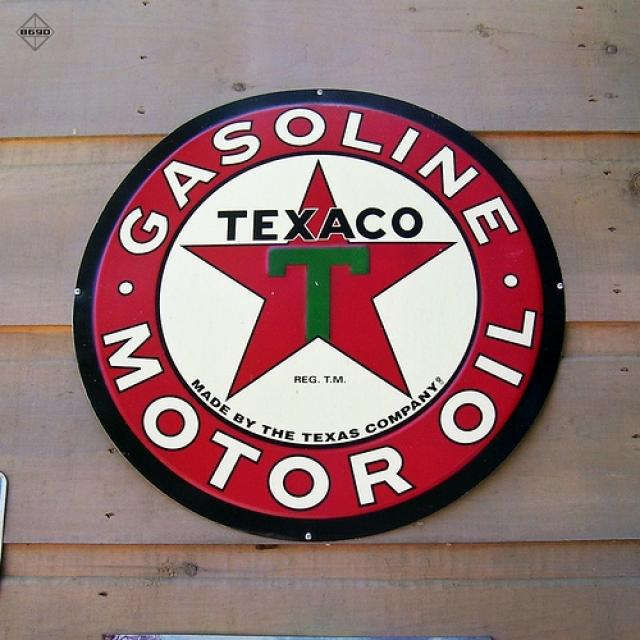texaco: (155, 152, 480, 453)
